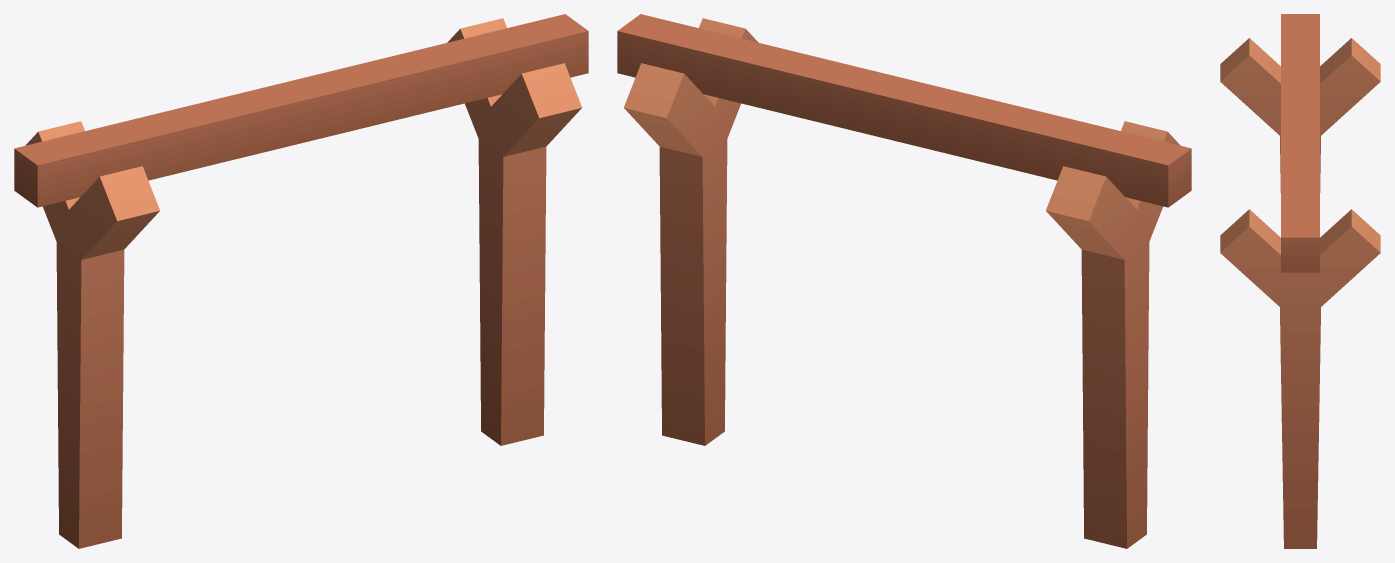
The model's file is campfire-stand.glb.
3 views of the same model, side by side, from view 1: azimuth 30°, elevation 25°; view 2: azimuth 150°, elevation 25°; view 3: azimuth 270°, elevation 25° (orthographic). The views are drawn at different scales.
Visible parts, largest first — view 1: campfire-stand; view 2: campfire-stand; view 3: campfire-stand.
Part boxes in pixels (x1,y1,x2,y2): campfire-stand: [14, 14, 588, 548]; campfire-stand: [617, 14, 1191, 548]; campfire-stand: [1220, 14, 1380, 548].
Bounding box in the file's own units: 0.41 × 0.281 × 0.1244.
Materials: 1 (1 with a texture image).
